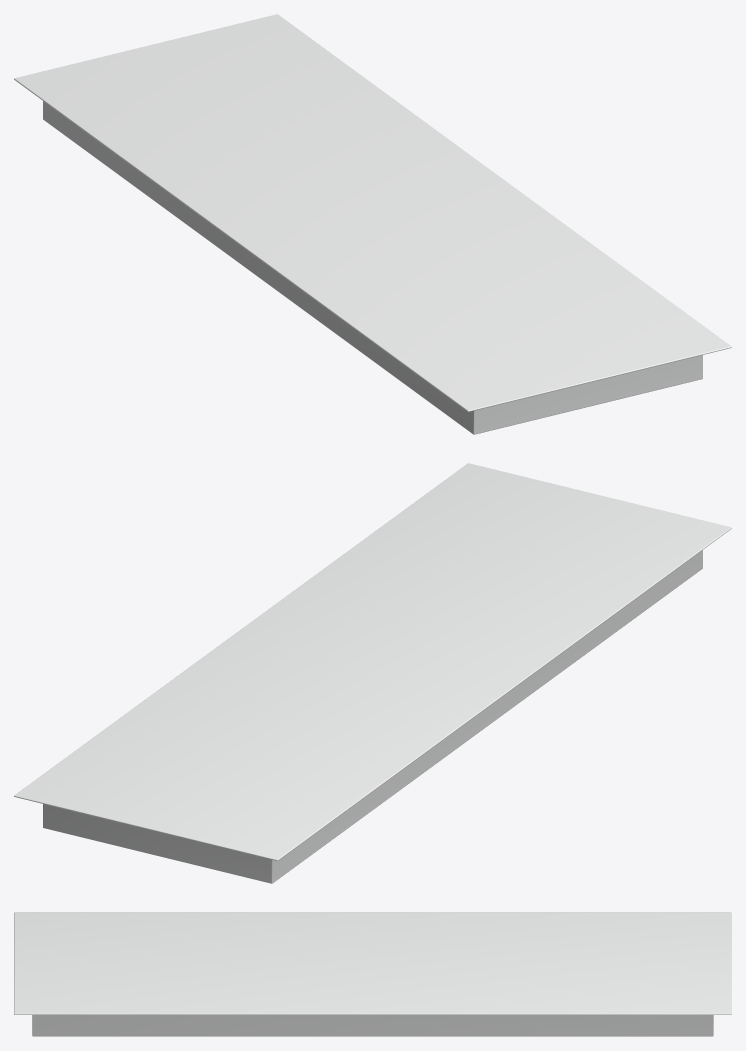
3 renders of one model, top to bottom at view 1: azimuth 30°, elevation 25°; view 2: azimuth 150°, elevation 25°; view 3: azimuth 270°, elevation 25°, orthographic. The views are drawn at different scales.
Parts seen in each view (by area): view 1: Item_Cube.050; view 2: Item_Cube.050; view 3: Item_Cube.050.
Boxes of the visible parts, box(x1,y1,x2,y2) form: Item_Cube.050: box(14, 14, 731, 434); Item_Cube.050: box(14, 463, 731, 883); Item_Cube.050: box(14, 912, 731, 1036).
Size of the model in its own units: 0.208 by 0.0279 by 0.6199.
1 material, 1 textured.
